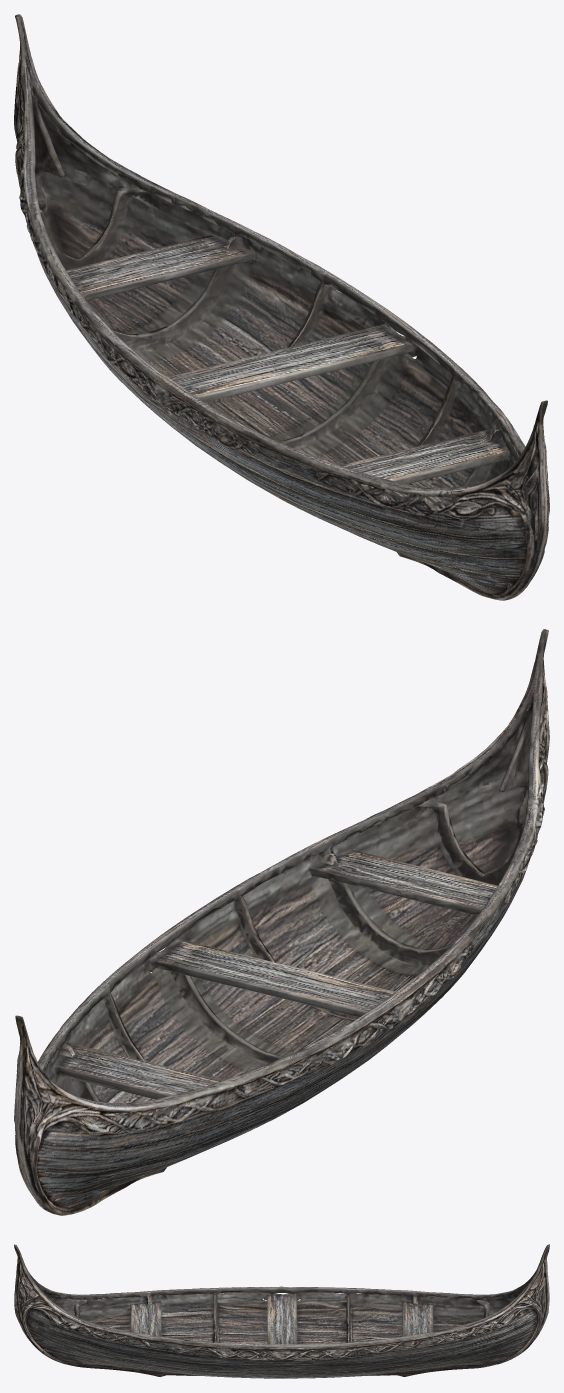
The model's file is portal_04.glb.
3 views of the same model, one above another, from view 1: azimuth 30°, elevation 25°; view 2: azimuth 150°, elevation 25°; view 3: azimuth 270°, elevation 25° (orthographic). The views are drawn at different scales.
Size of the model in its own units: 0.2707 by 0.2721 by 1.
1 material, 1 textured.
